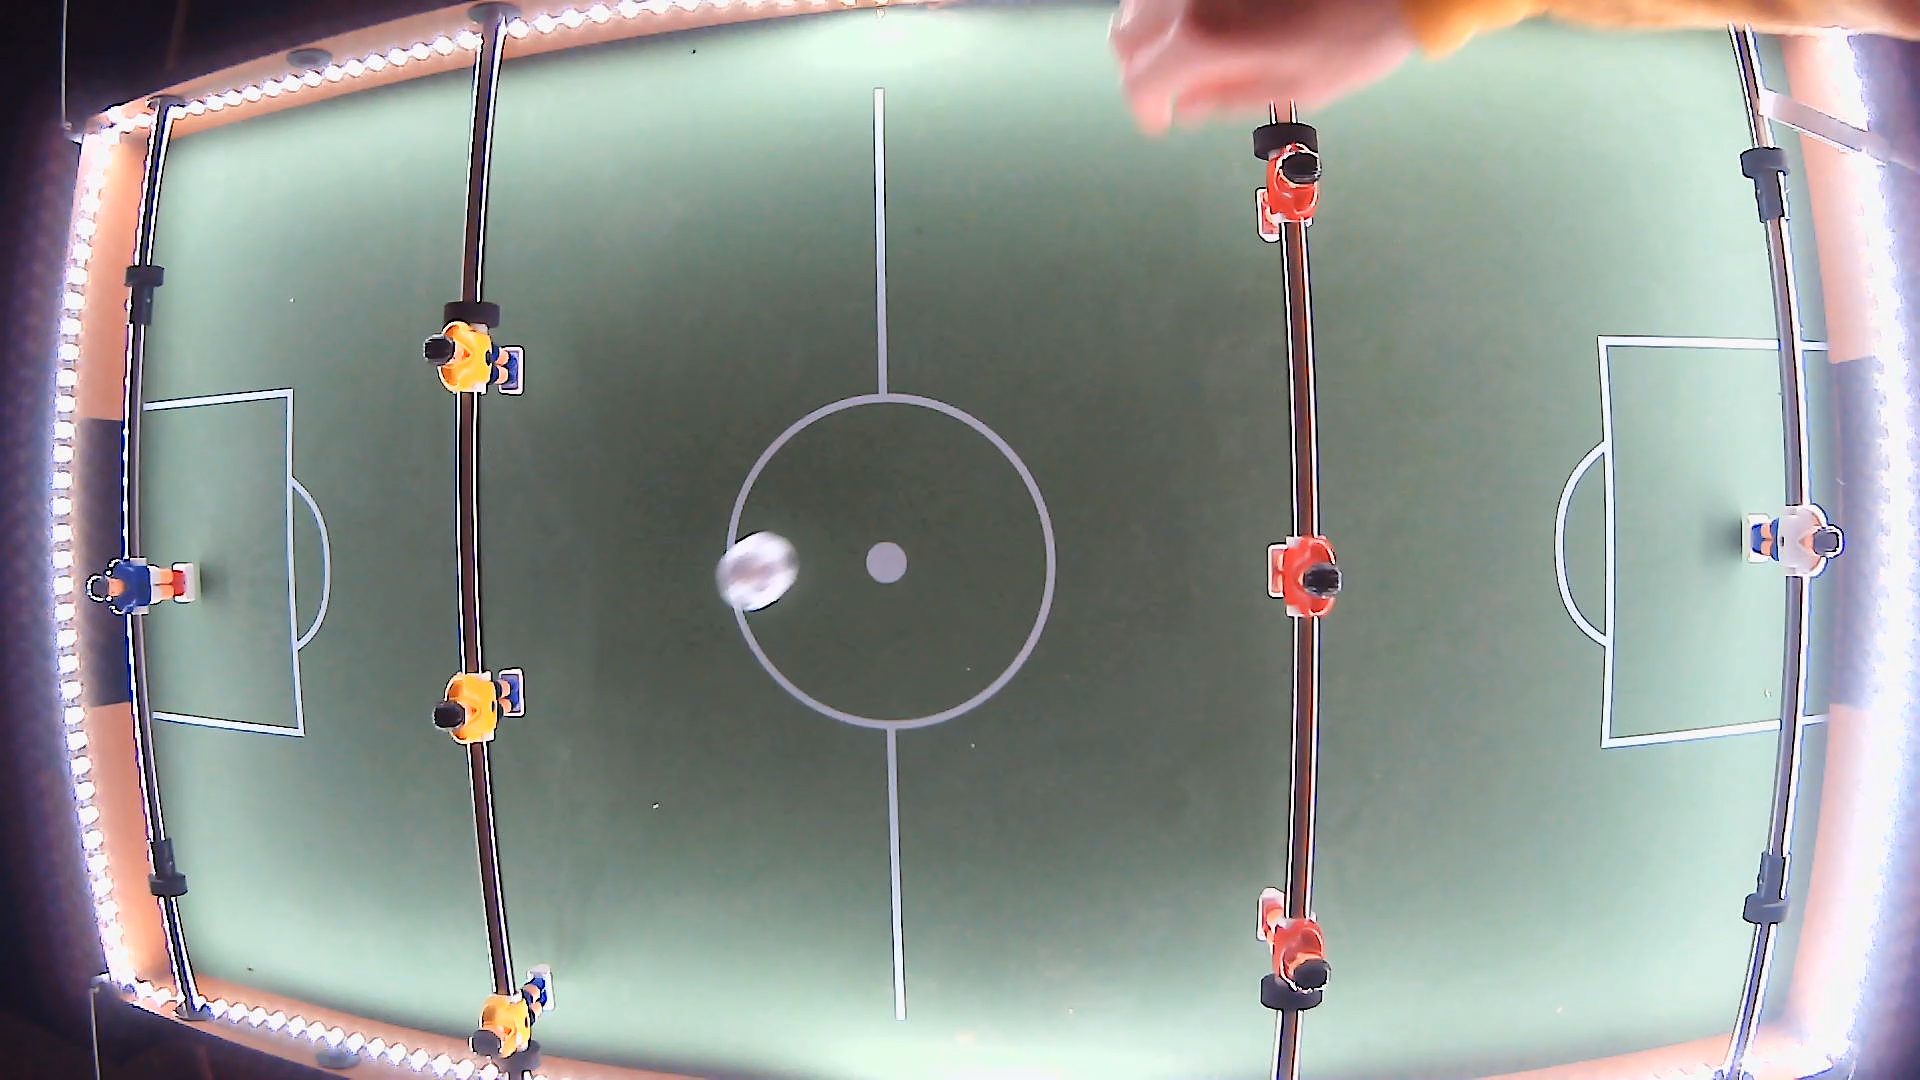Foosball: (713, 530, 798, 612)
